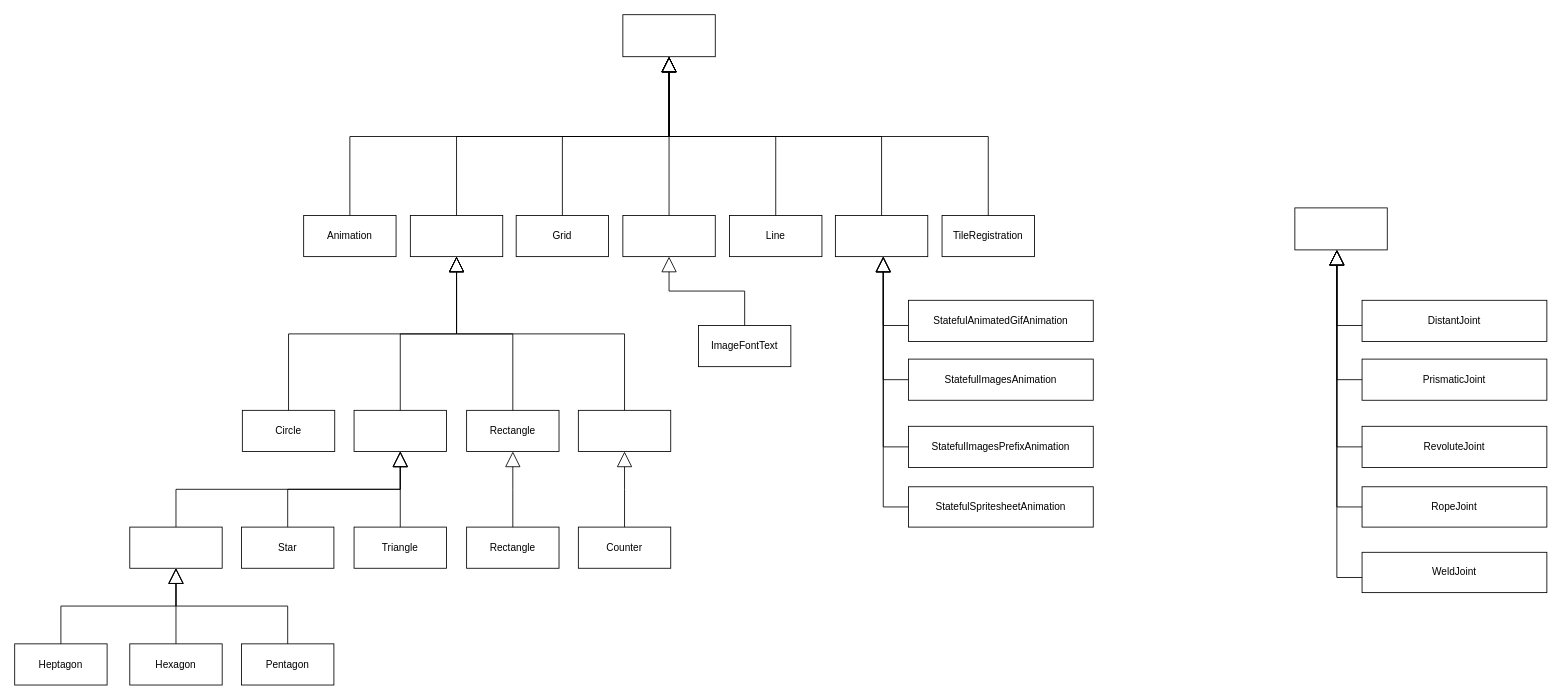
Some shapes in this 1562 by 700 pixel diagram are drawn without their labels. Here are the shapes that lost their labels. From the top down, the centre of each, then its label:
At (668,35): "Actor {abstract}".
At (456,236): "Geometry {abstract}".
At (668,236): "Image".
At (881,236): "StatefullAnimation".
At (1340,228): "Joint {abstract}".
At (399,431): "Polygon".
At (624,431): "Text".
At (175,547): "RegularPolygon".
